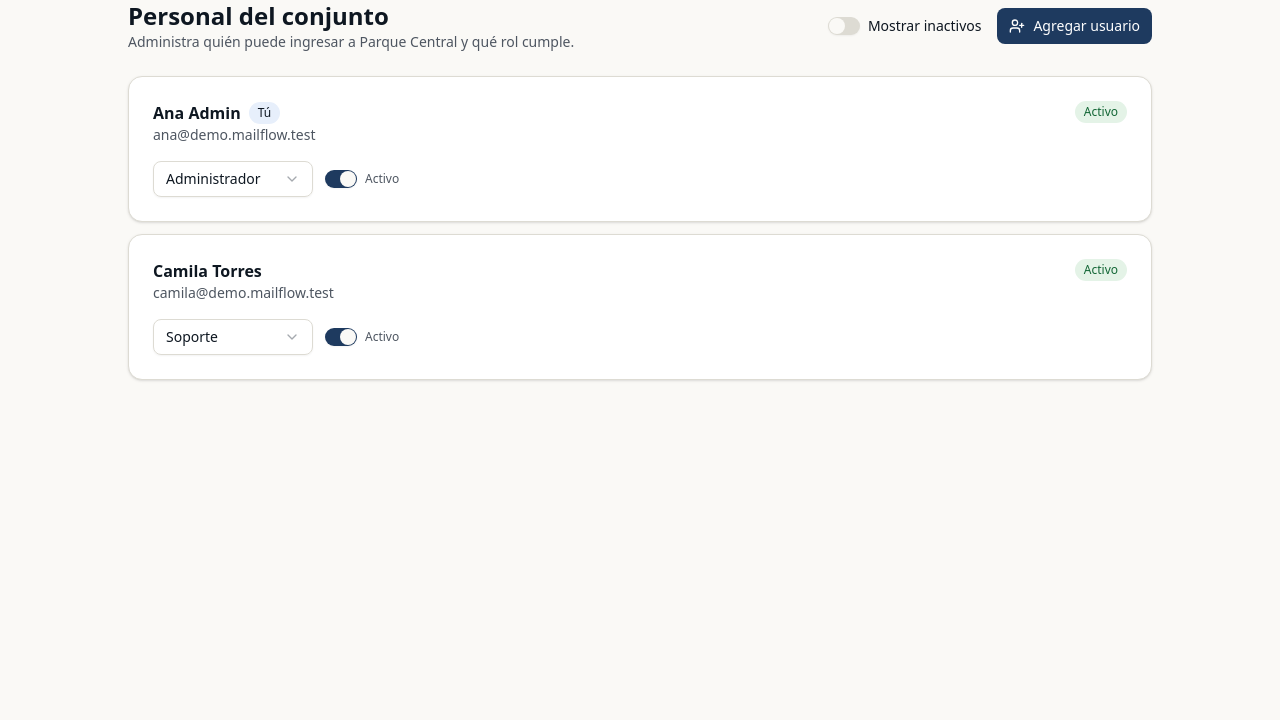
Test case: UsuariosPage · Agregar usuario › muestra 409 miembro activo y 422 cuenta deshabilitada dentro del diálogo sin cerrarlo
The image size is (1280, 720).
Expected: the text "Camila Torres" is shown, [153,259,262,283]
Step 1. Click the button "Agregar usuario" → (1075, 26), box [997,8,1152,44]
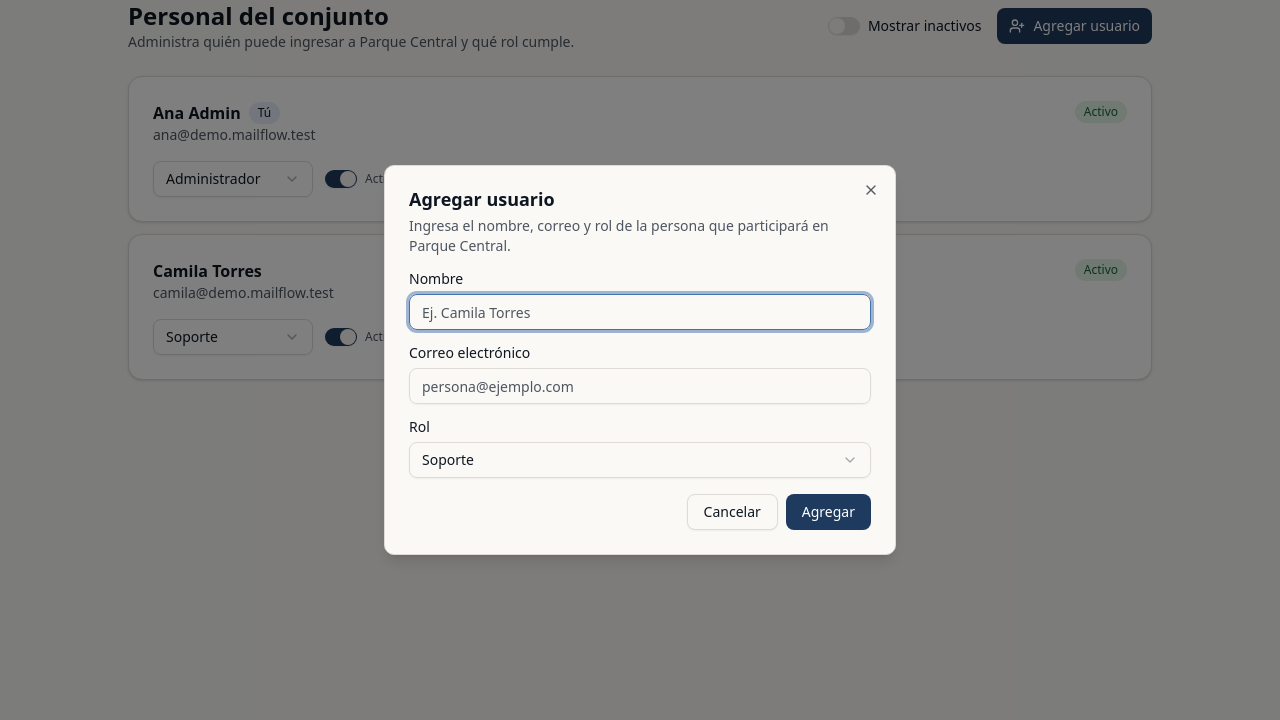
Step 2. Type "Camila" into the field labelled "Nombre" → (640, 312), box [409,294,871,330]
Step 3. Type "camila@demo.mailflow.test" into the field labelled "Correo electrónico" → (640, 386), box [409,368,871,404]
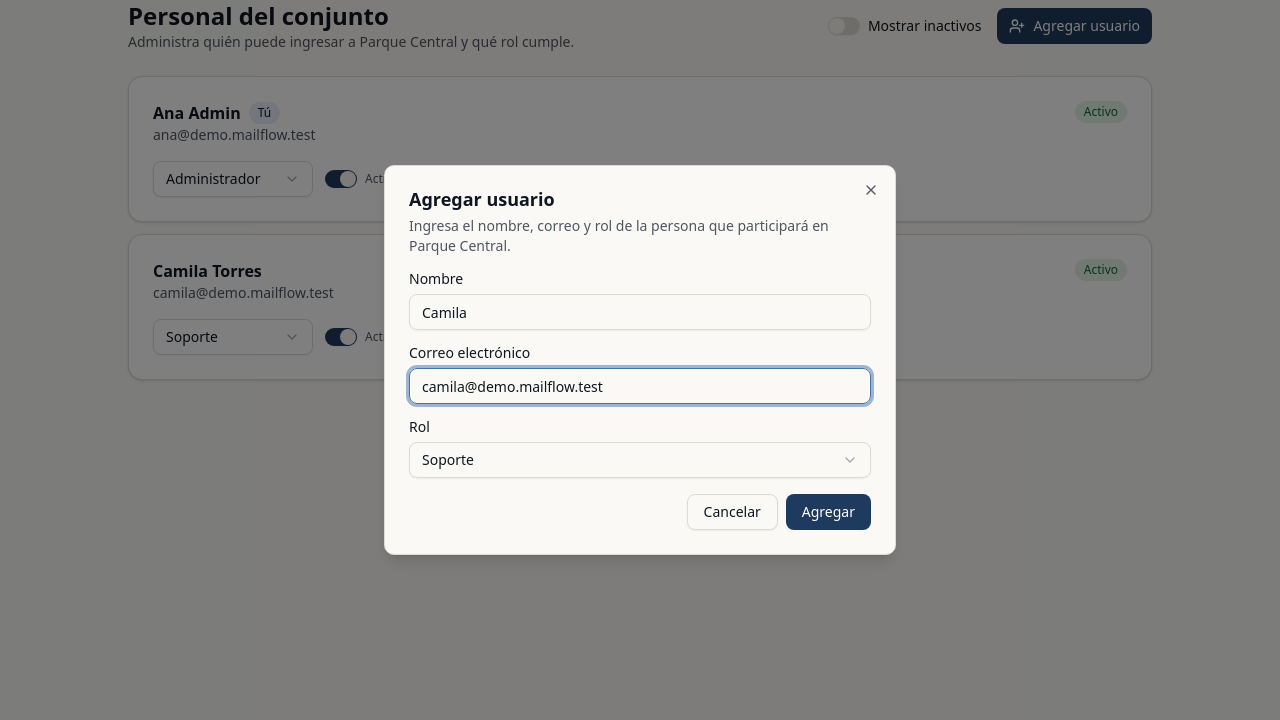
Step 4. Click the button "Agregar" → (828, 512), box [786,494,871,530]
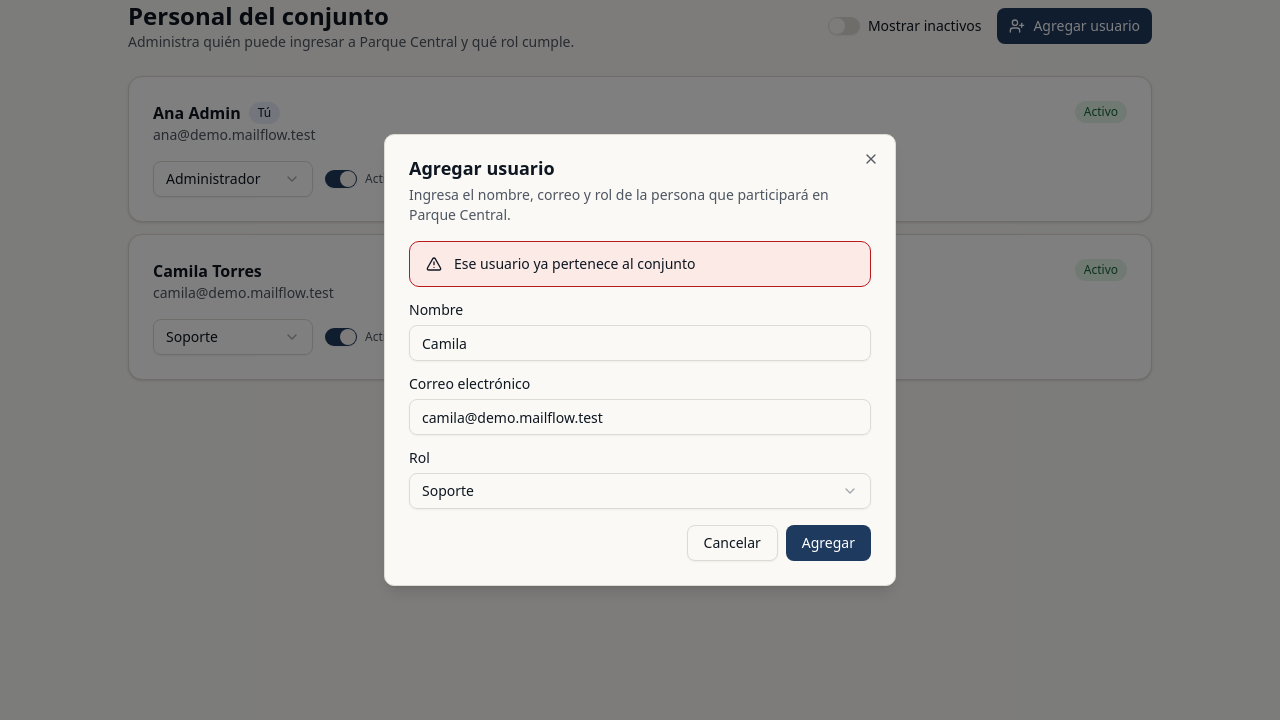
Result: the dialog is shown at [384,134,896,586]
Result: the text "Ese usuario ya pertenece al conjunto" is shown at [454,254,696,273]
Step 5. Clear the field labelled "Correo electrónico" → (640, 417), box [409,399,871,435]
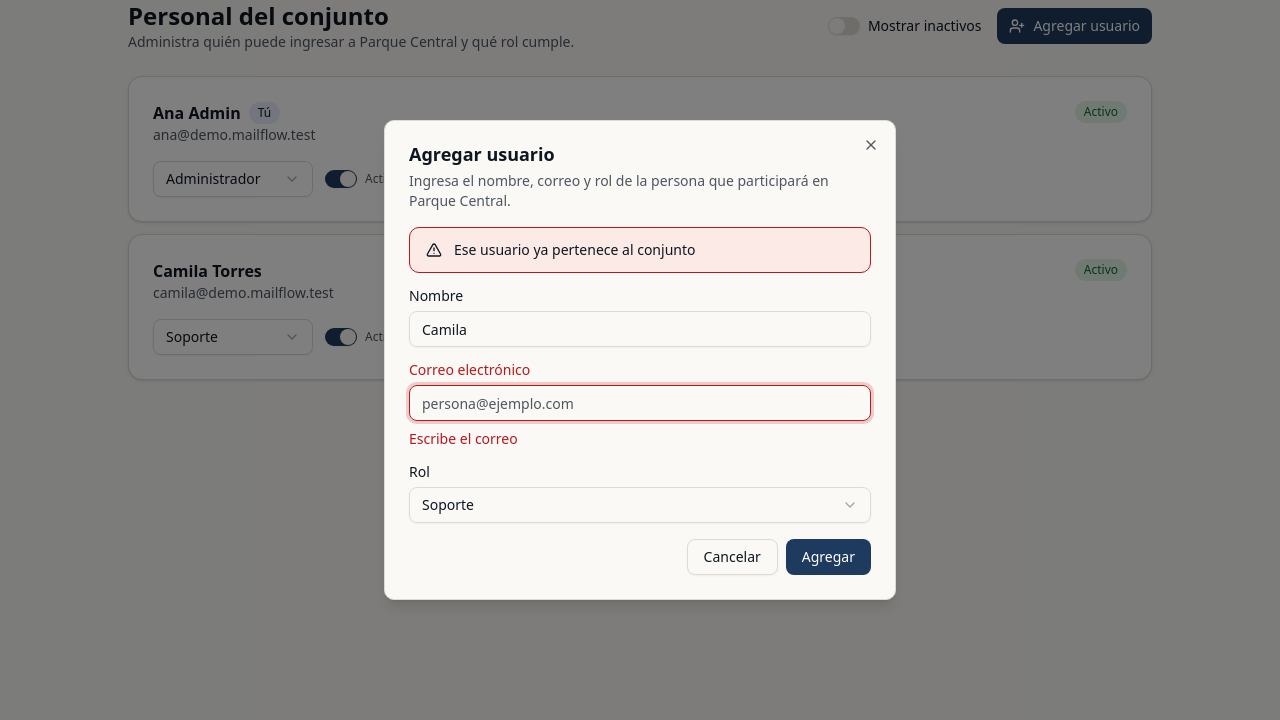
Step 6. Type "bloqueada@demo.mailflow.test" into the field labelled "Correo electrónico" → (640, 403), box [409,385,871,421]
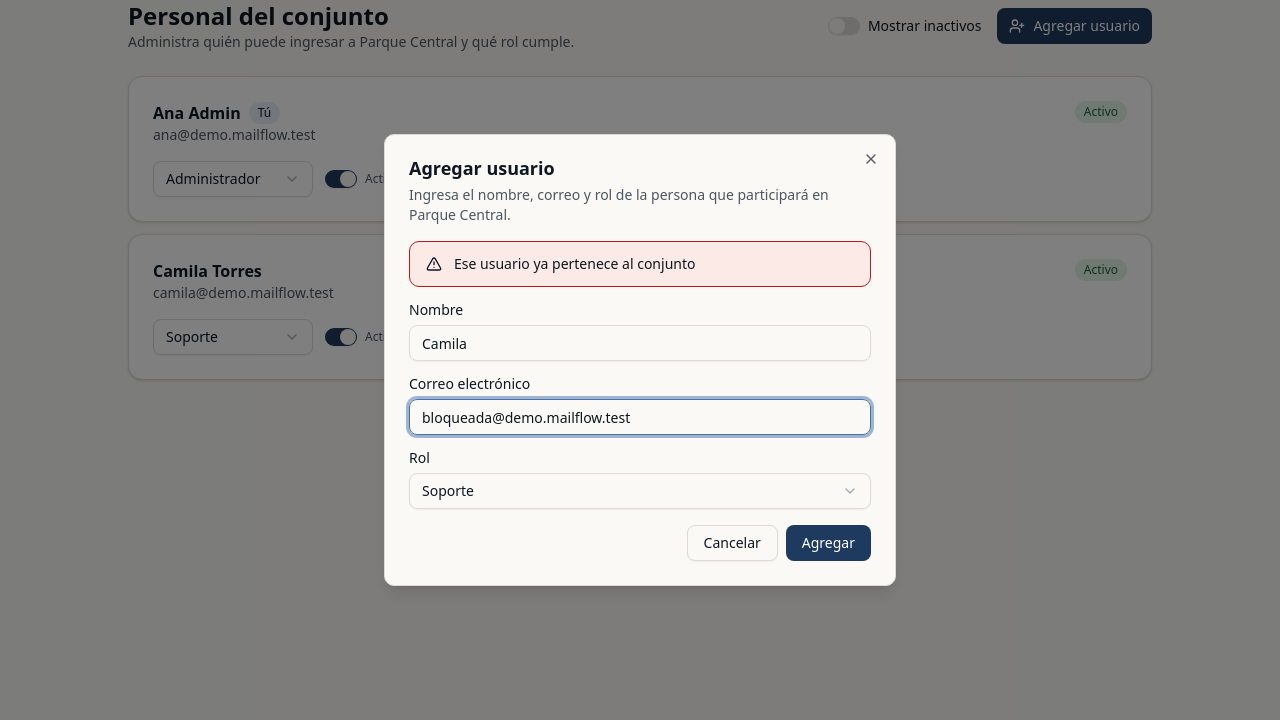
Step 7. Click the button "Agregar" → (828, 543), box [786,525,871,561]
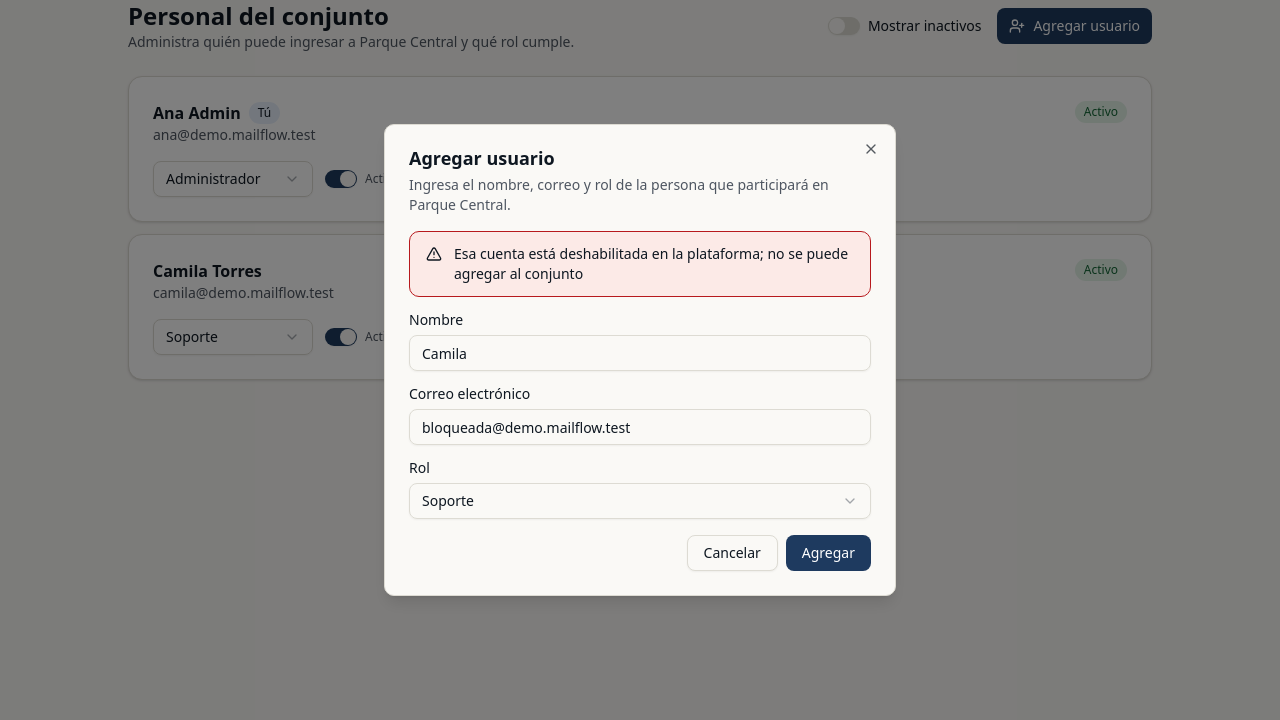
Result: the dialog is shown at [384,124,896,596]
Result: the text "Esa cuenta está deshabilitada en la plataforma; no se puede agregar al conjunto" is shown at [454,244,854,284]
